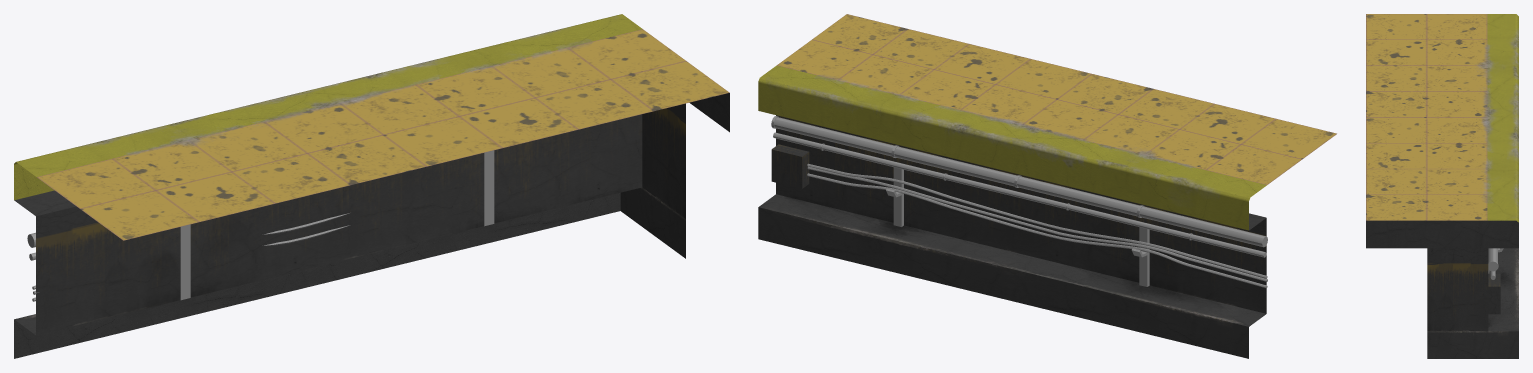
Rendered from platform_end_a.fbx.
3 renders of one model, left to right at view 1: azimuth 30°, elevation 25°; view 2: azimuth 150°, elevation 25°; view 3: azimuth 270°, elevation 25°, orthographic. The views are drawn at different scales.
Parts seen in each view (by area): view 1: platform_end_a; view 2: platform_end_a; view 3: platform_end_a.
Boxes of the visible parts, x1,y1,x2,y2 form: platform_end_a: (14, 14, 729, 358); platform_end_a: (758, 14, 1336, 358); platform_end_a: (1366, 14, 1518, 358).
Bounding box in the file's own units: 401 × 125 × 125.
2 materials, 1 textured.
